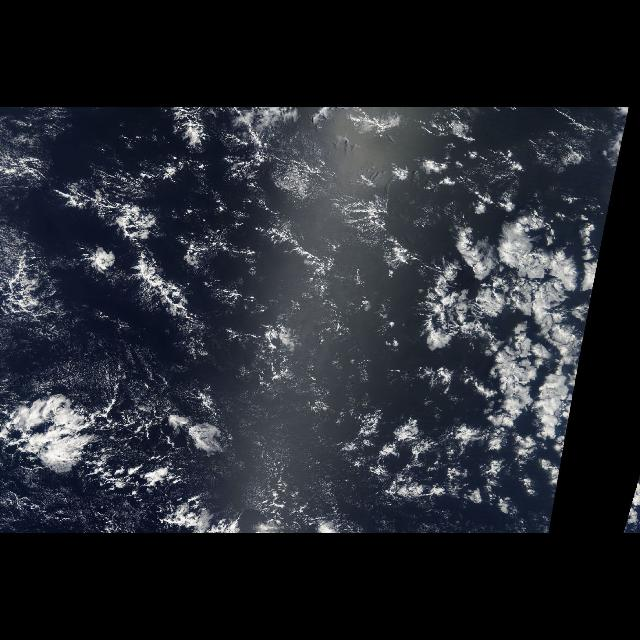Fish: (62, 188, 204, 330)
Flower: (343, 138, 607, 528)
Sugar: (4, 110, 392, 530)
